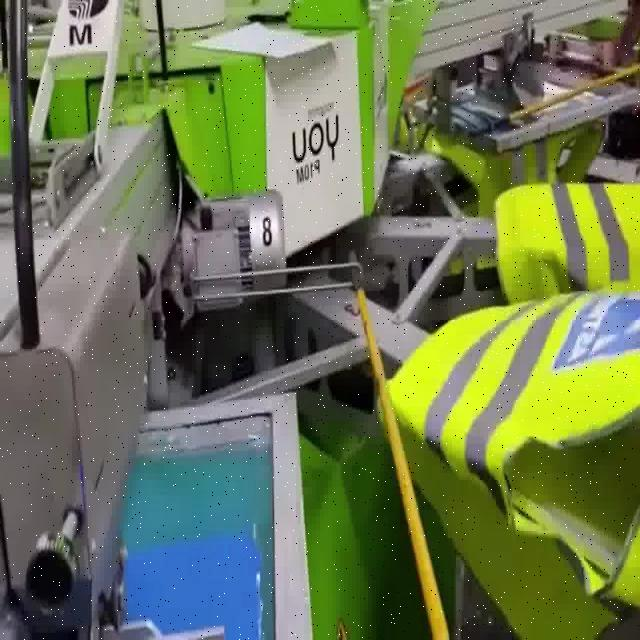Vest: (355, 310, 637, 636), (477, 172, 640, 316)
